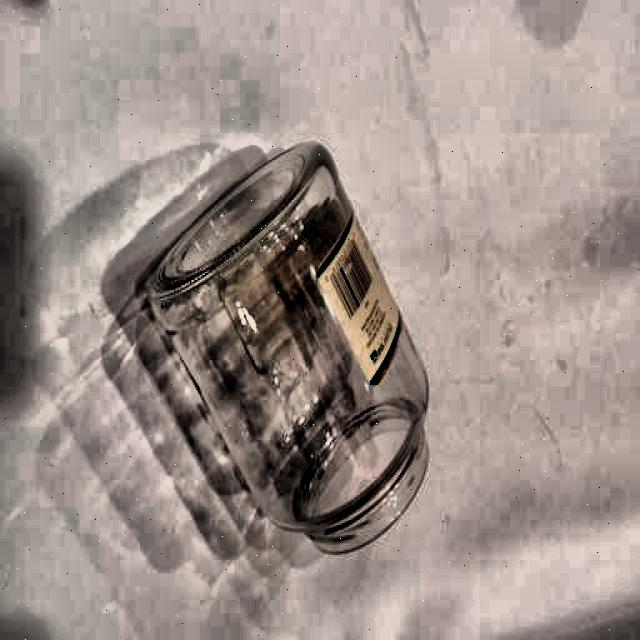glass: (144, 136, 432, 552)
